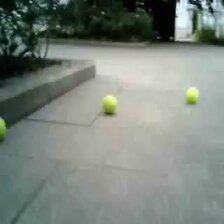tennis: (102, 96, 118, 113), (184, 87, 199, 103)
